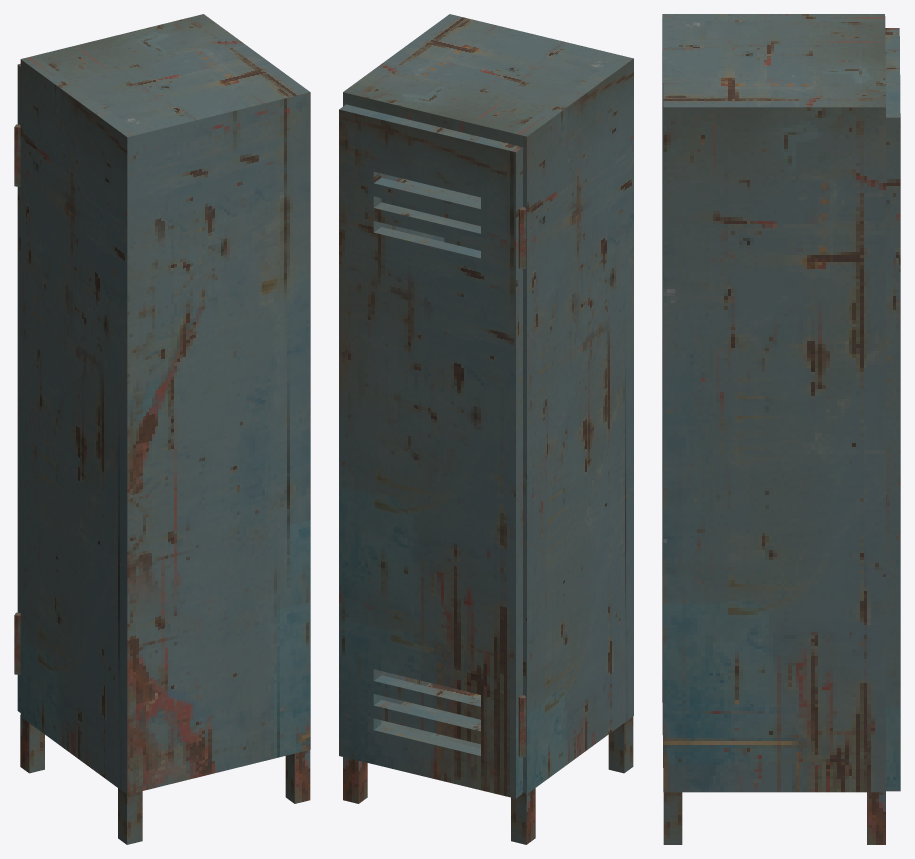
The model's file is locker.glb.
3 views of the same model, side by side, from view 1: azimuth 30°, elevation 25°; view 2: azimuth 150°, elevation 25°; view 3: azimuth 270°, elevation 25° (orthographic). The views are drawn at different scales.
Visible parts, largest first — view 1: Locker, Locker_D; view 2: Locker_D, Locker; view 3: Locker, Locker_D.
Boxes of the visible parts, x1=… form: Locker: x1=20, y1=14, x2=310, y2=844; Locker_D: x1=14, y1=63, x2=20, y2=712; Locker_D: x1=339, y1=104, x2=526, y2=798; Locker: x1=343, y1=14, x2=633, y2=844; Locker: x1=662, y1=14, x2=885, y2=844; Locker_D: x1=885, y1=28, x2=900, y2=791.
Bounding box in the file's own units: 0.5012 × 1.82 × 0.5321.
Materials: 1 (1 with a texture image).
